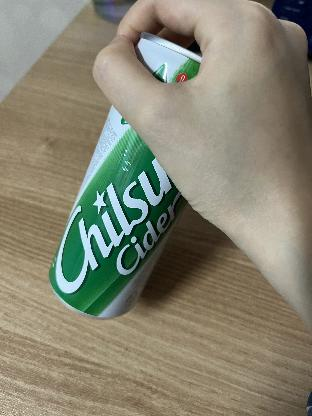Can: (46, 34, 220, 320)
